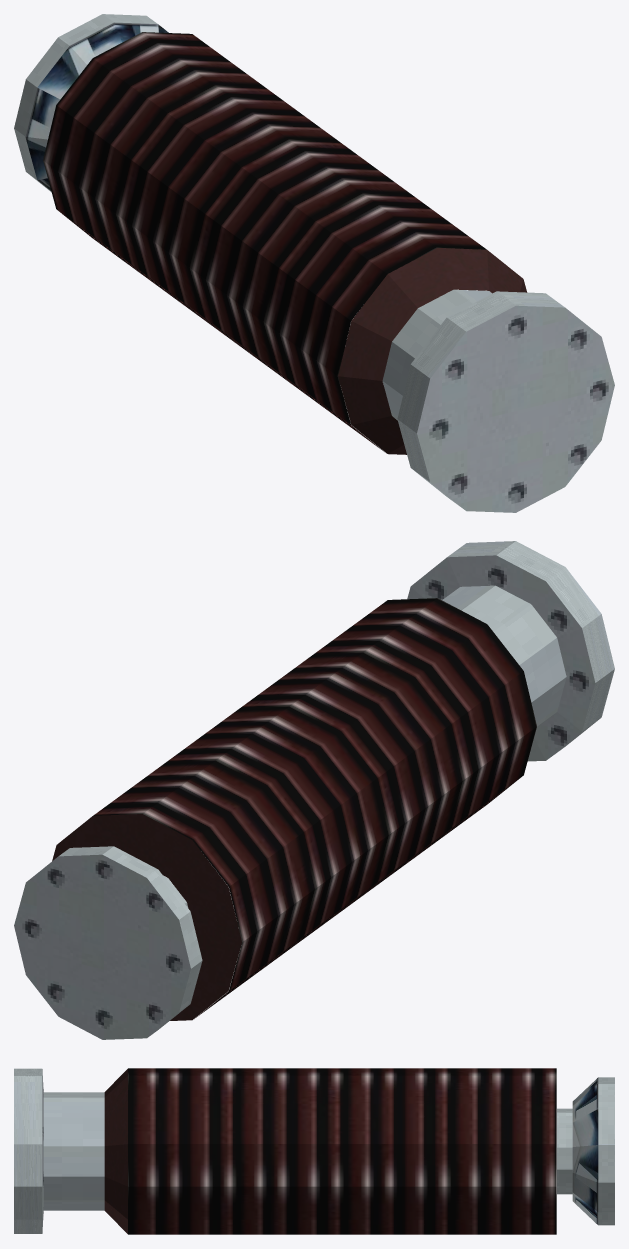
File: jyz420-geode.glb
The picture shows the model from 3 angles, top to bottom: view 1: azimuth 30°, elevation 25°; view 2: azimuth 150°, elevation 25°; view 3: azimuth 270°, elevation 25°; orthographic projection. The views are drawn at different scales.
Parts seen in each view (by area): view 1: Node; view 2: Node; view 3: Node.
Boxes of the visible parts, box(x1,y1,x2,y2) form: Node: box(14, 14, 614, 512); Node: box(14, 541, 614, 1039); Node: box(14, 1068, 614, 1234).
Bounding box in the file's own units: 0.0679 × 0.0679 × 0.2445.
Materials: 5 (5 with a texture image).
